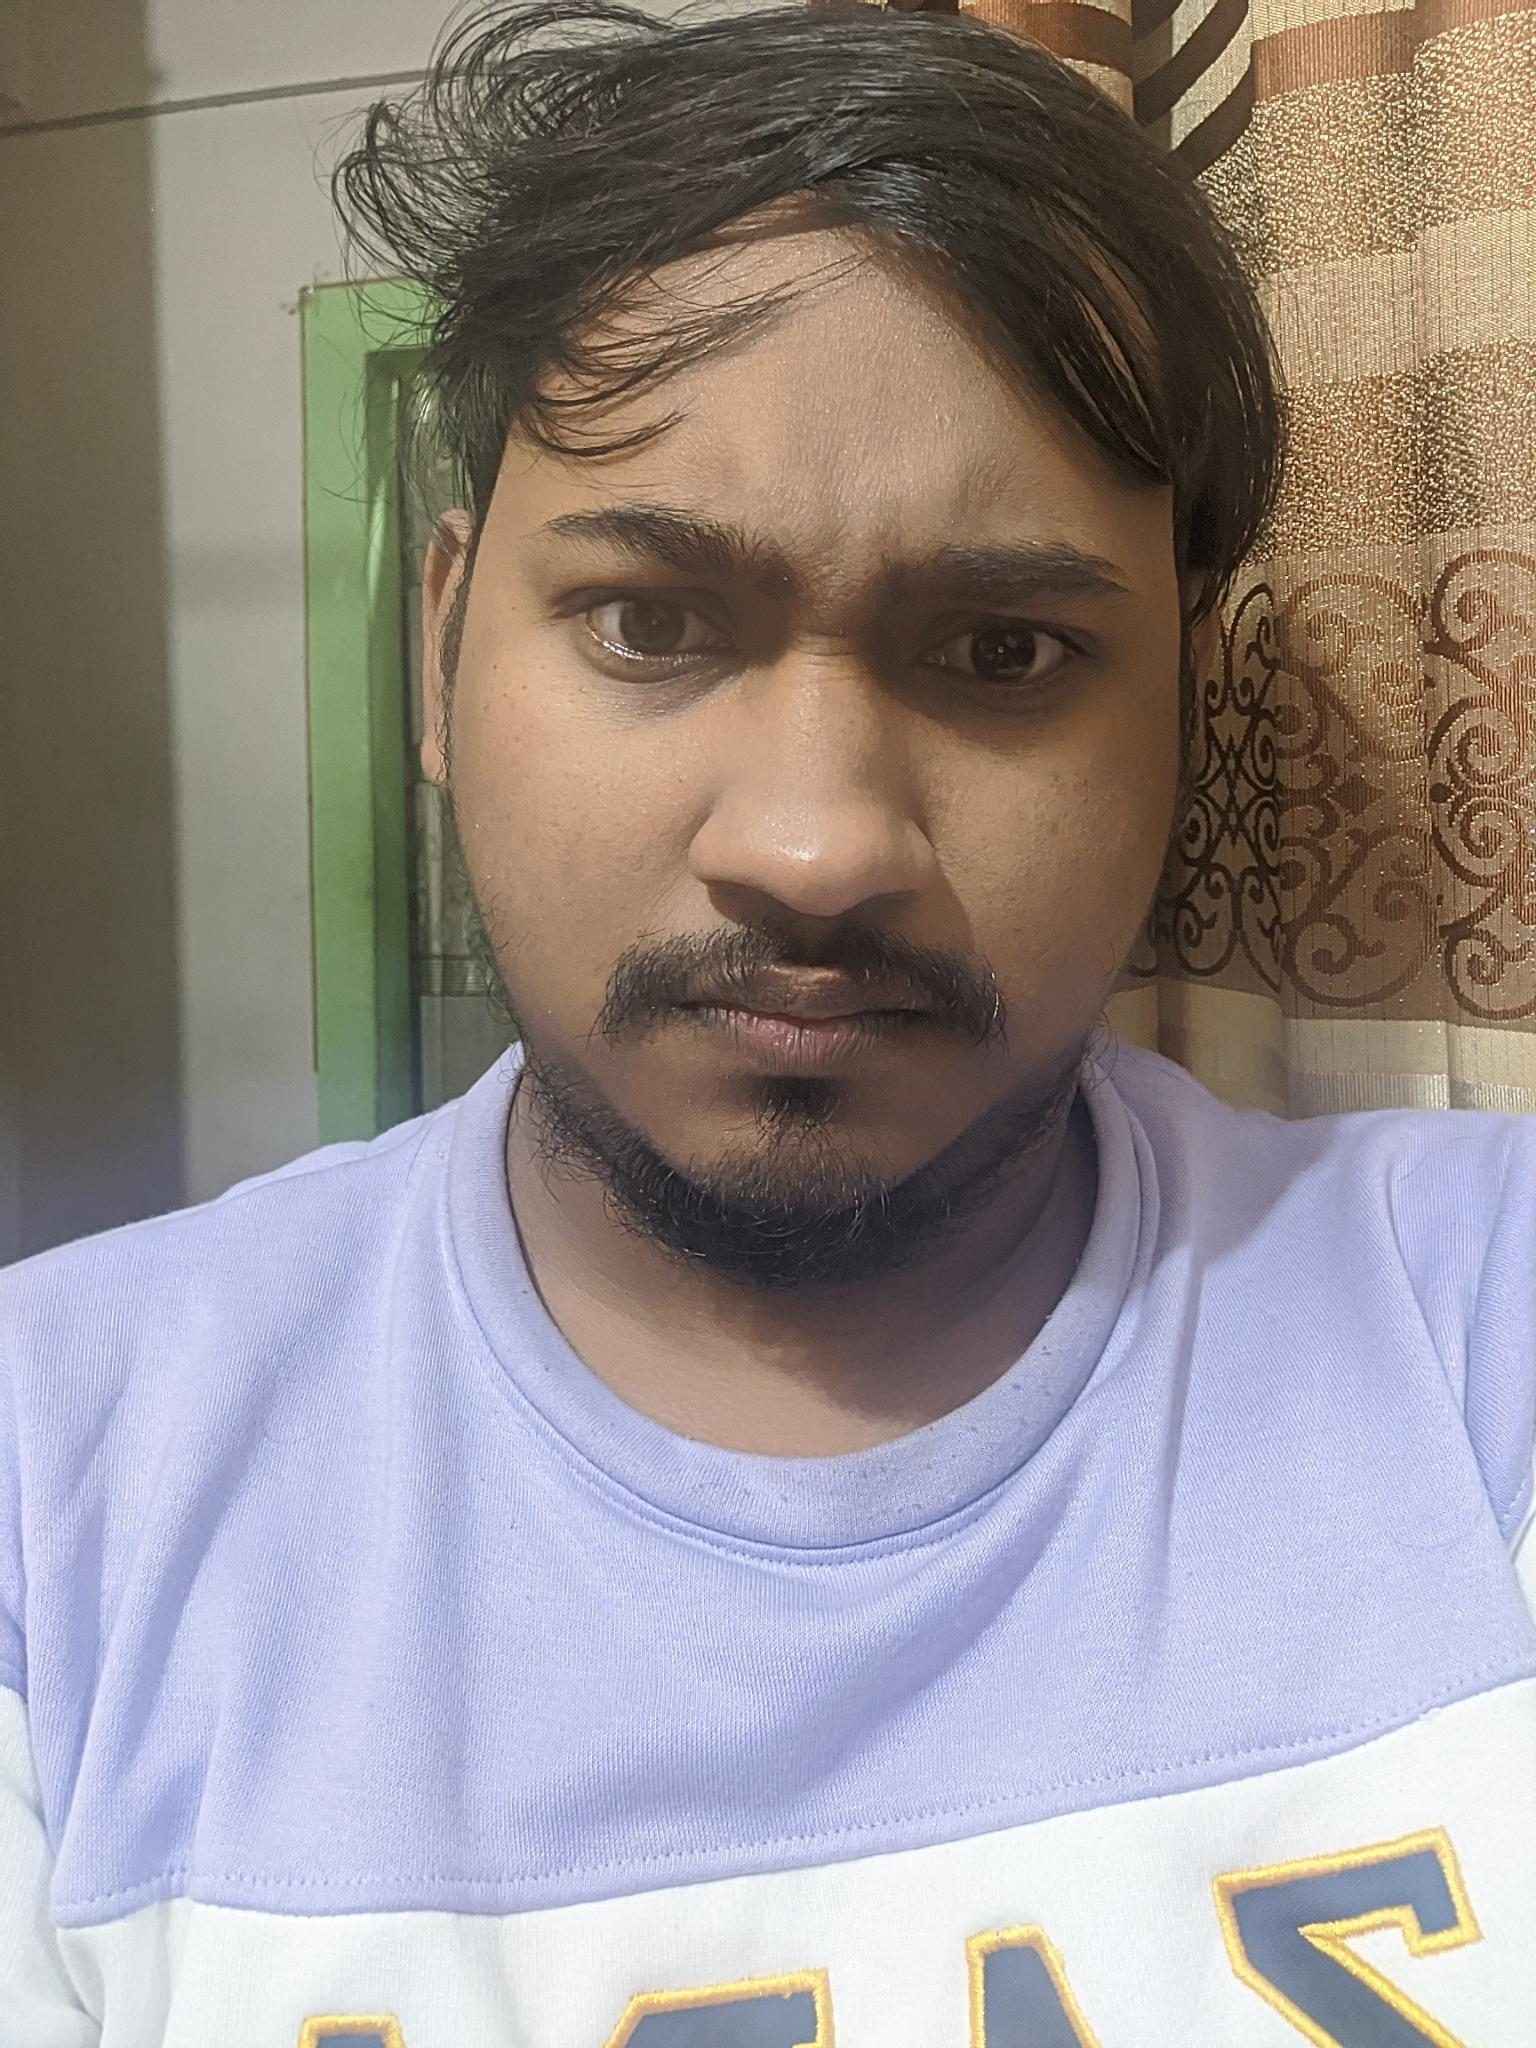Angry: (481, 421, 1163, 1245)
